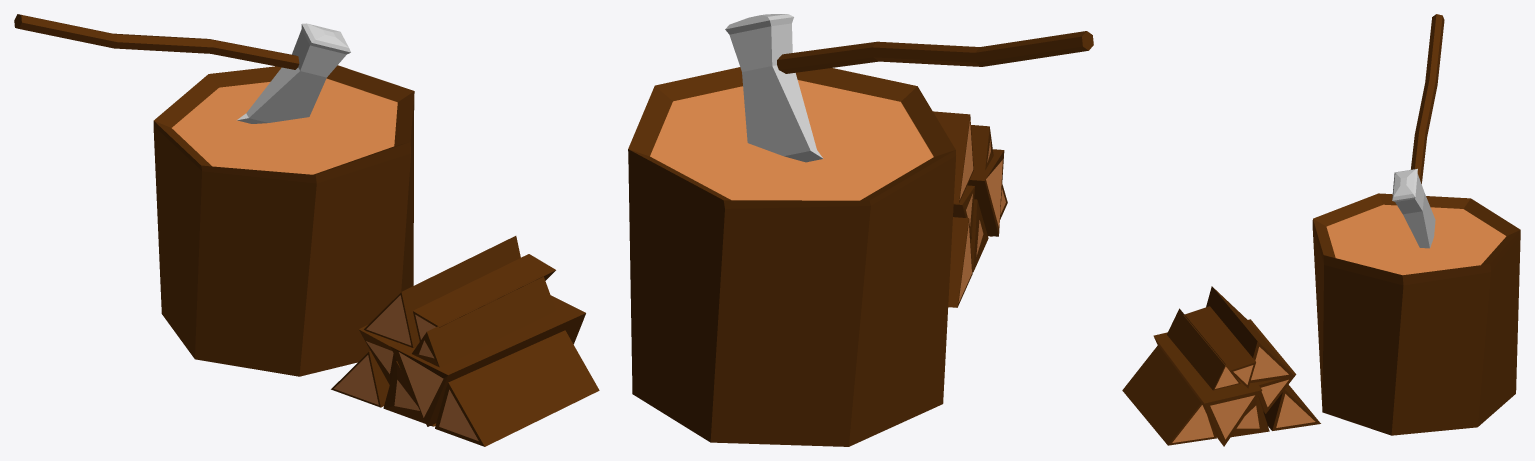
The model's file is ChoppingBlock.fbx.
The picture shows the model from 3 angles, left to right: view 1: azimuth 30°, elevation 25°; view 2: azimuth 150°, elevation 25°; view 3: azimuth 270°, elevation 25°; orthographic projection. The views are drawn at different scales.
Parts seen in each view (by area): view 1: Cube; view 2: Cube; view 3: Cube.
Part boxes in pixels (bbox=[...]): Cube: bbox=[14, 14, 599, 446]; Cube: bbox=[628, 14, 1093, 446]; Cube: bbox=[1122, 14, 1520, 446].
Bounding box in the file's own units: 376 × 306 × 391.
